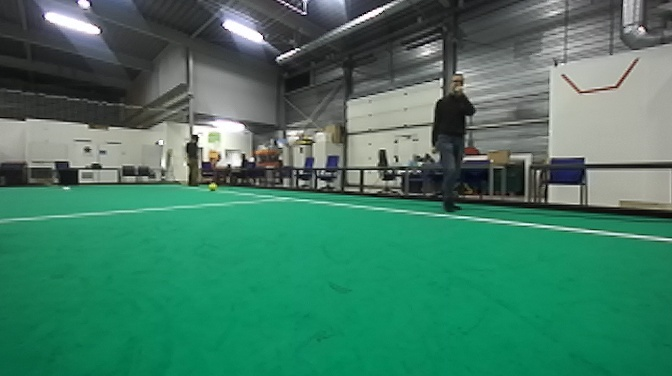ball: (207, 182, 217, 192)
human: (427, 68, 476, 222)
